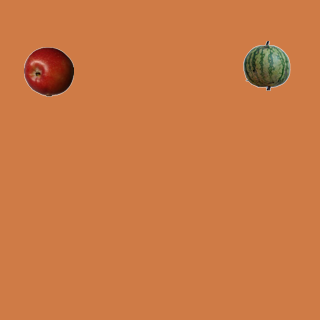Apple Braeburn: (23, 46, 73, 96)
Watermelon: (241, 40, 291, 90)
